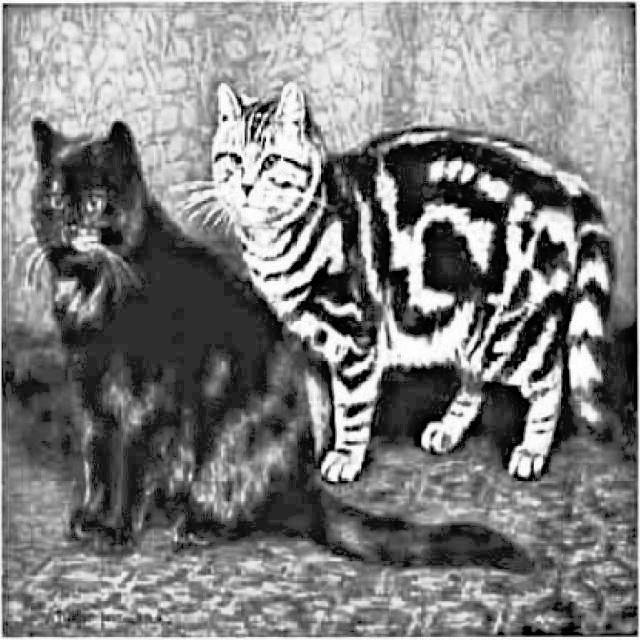Cat: (23, 113, 537, 587), (188, 73, 619, 496)
